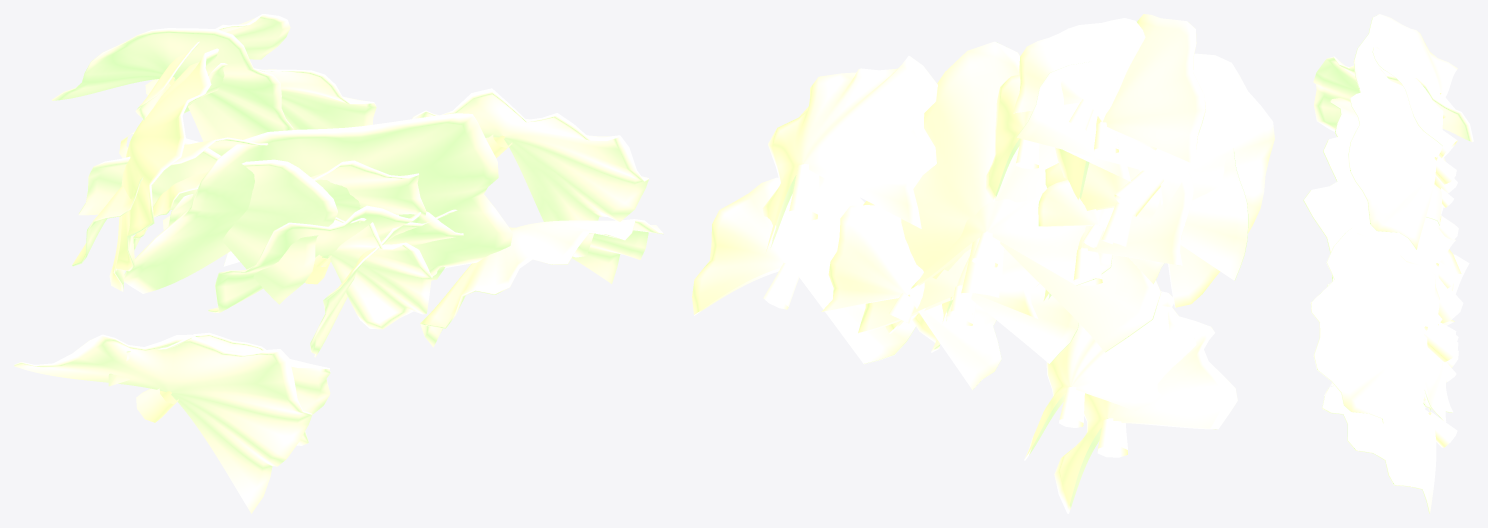
File: ghost_wall_b.glb
The picture shows the model from 3 angles, left to right: view 1: azimuth 30°, elevation 25°; view 2: azimuth 150°, elevation 25°; view 3: azimuth 270°, elevation 25°; orthographic projection. The views are drawn at different scales.
Parts seen in each view (by area): view 1: ghost_wall_b; view 2: ghost_wall_b; view 3: ghost_wall_b.
Part boxes in pixels (<box>): ghost_wall_b: <box>14,14,663,513</box>; ghost_wall_b: <box>692,14,1274,513</box>; ghost_wall_b: <box>1303,14,1473,513</box>.
Size of the model in its own units: 4.77 by 4.11 by 1.54.
